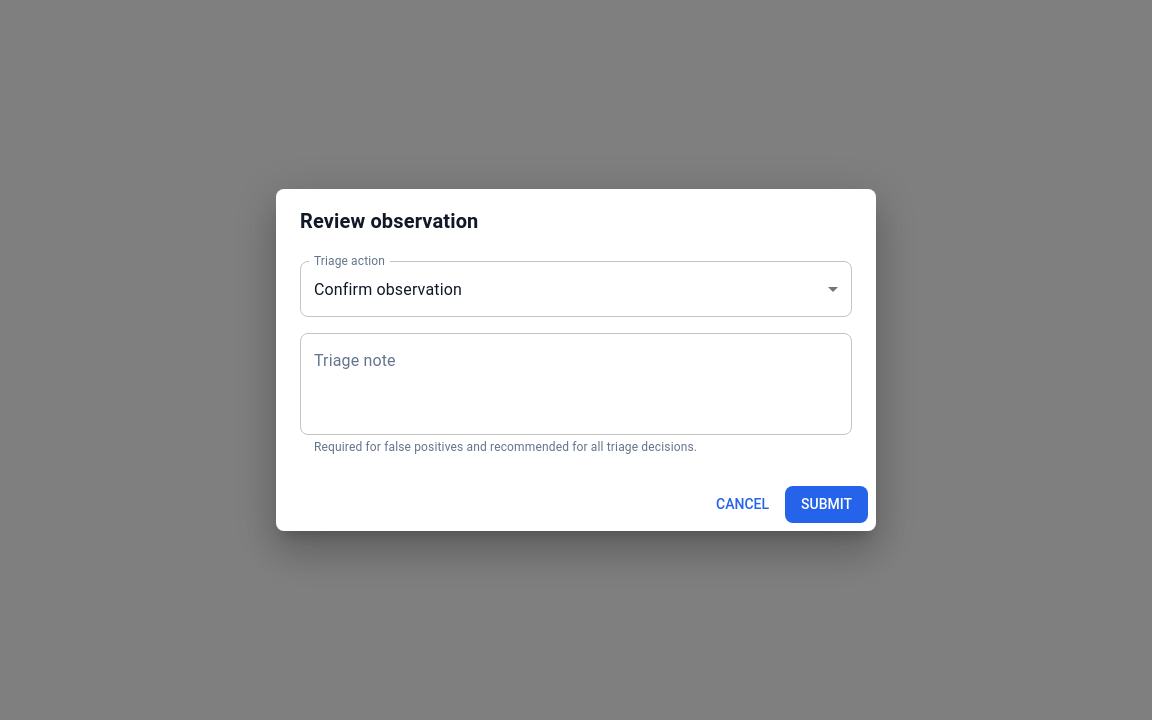
Test case: triage dialog requires a note for false positive
The width and height of the screenshot is (1152, 720).
Click the dropdown named "triage action" at (388, 289), box [314, 280, 462, 299]
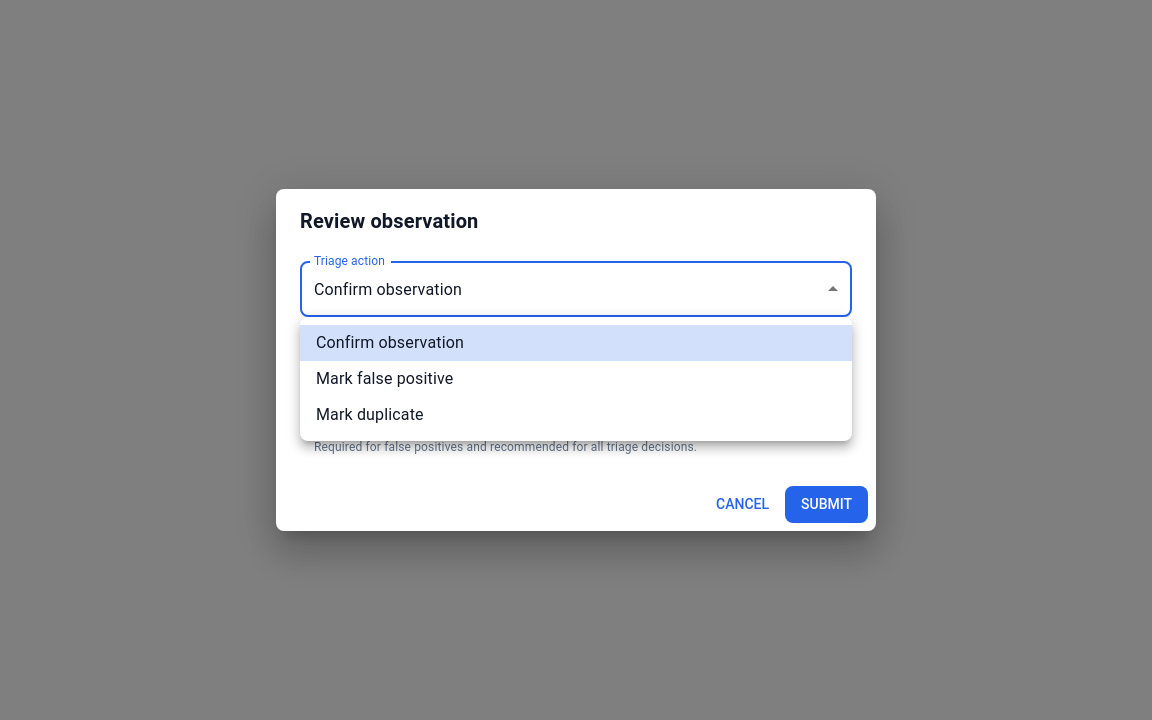
Click the option "Mark false positive" at (385, 378), box [316, 369, 453, 388]
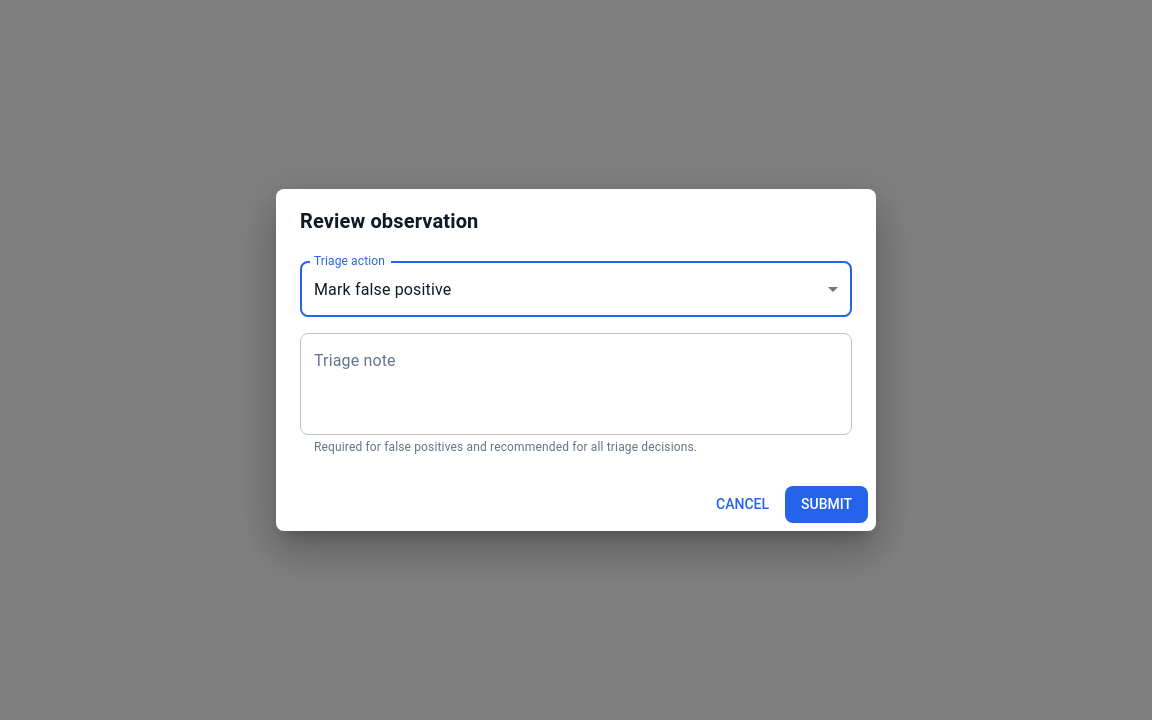
Click the button "Submit" at (826, 504), box [785, 486, 868, 523]
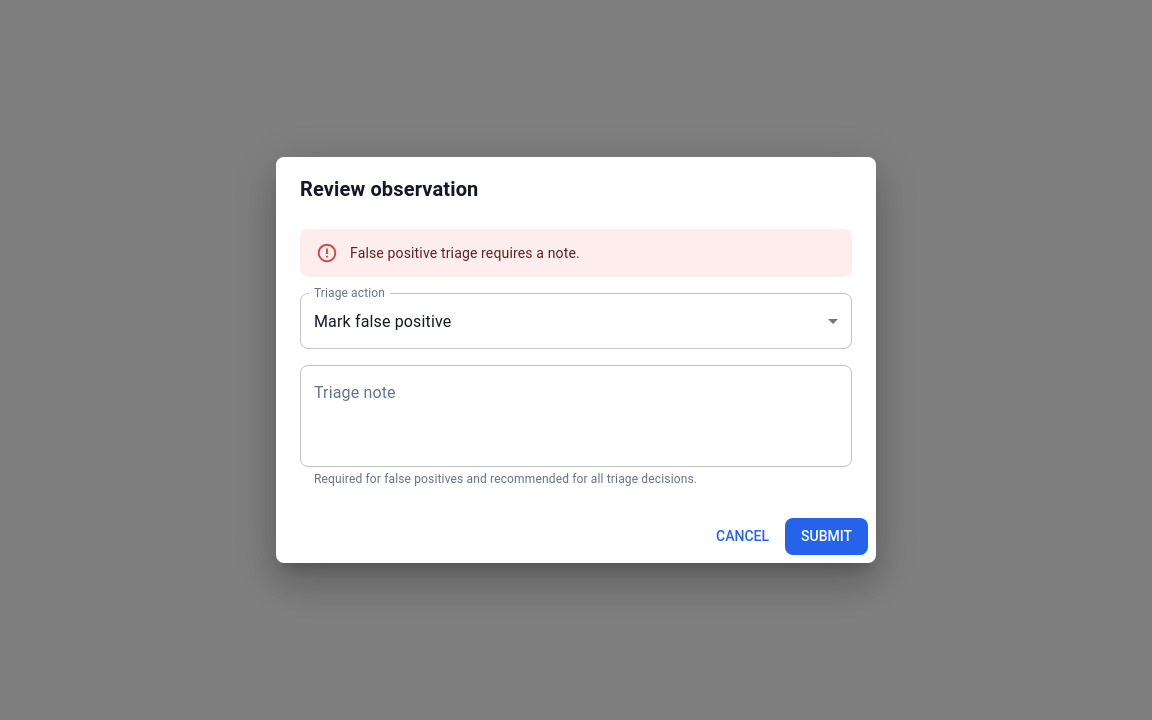
Expected: the text "False positive triage requires a note." is shown, [350, 245, 580, 261]
